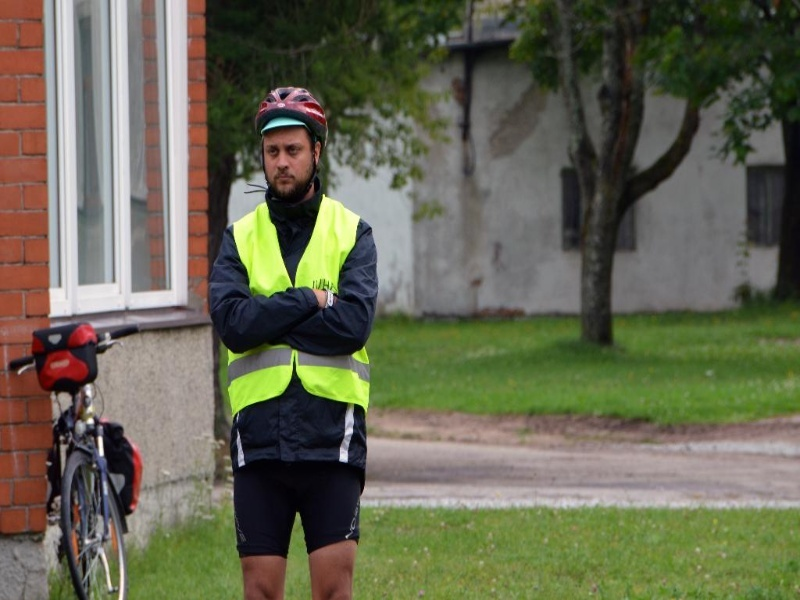Baret: (254, 84, 328, 150)
